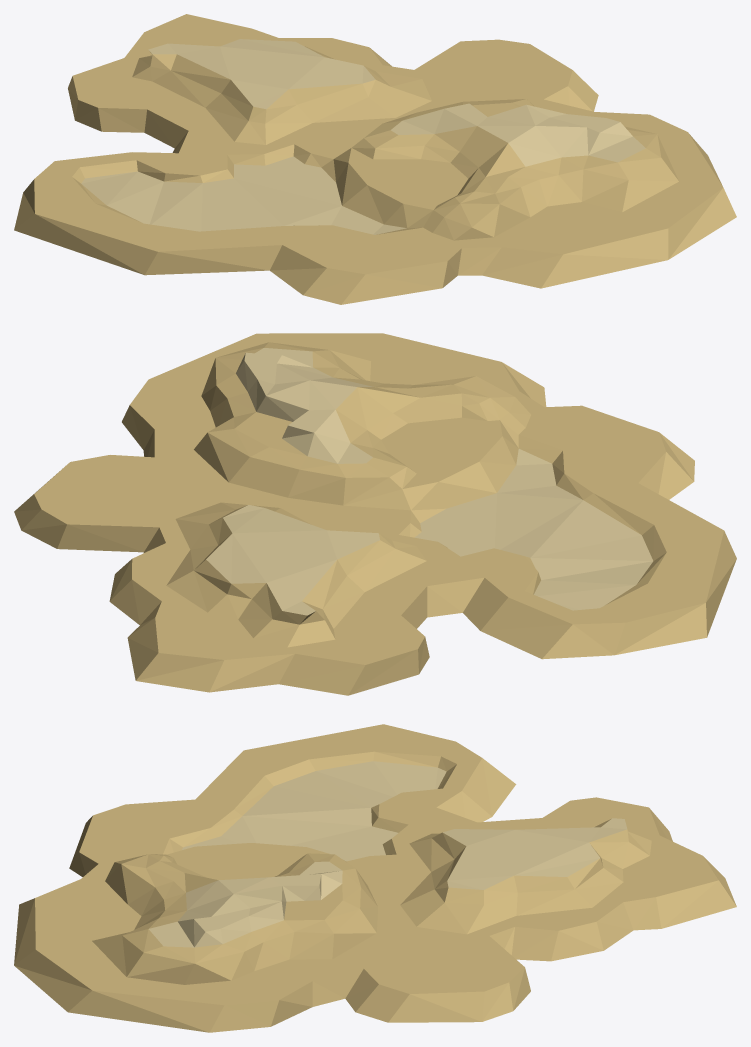
File: EA03_Env_Sand_Flat_01a.glb
3 renders of one model, top to bottom at view 1: azimuth 30°, elevation 25°; view 2: azimuth 150°, elevation 25°; view 3: azimuth 270°, elevation 25°, orthographic. The views are drawn at different scales.
Parts seen in each view (by area): view 1: EA03_Env_Sand_Flat_01a; view 2: EA03_Env_Sand_Flat_01a; view 3: EA03_Env_Sand_Flat_01a.
Boxes of the visible parts, box(x1,y1,x2,y2) form: EA03_Env_Sand_Flat_01a: box(14, 14, 736, 304); EA03_Env_Sand_Flat_01a: box(14, 333, 736, 695); EA03_Env_Sand_Flat_01a: box(14, 724, 736, 1032).
Size of the model in its own units: 4.63 by 0.4436 by 4.84.
Materials: 1 (1 with a texture image).
